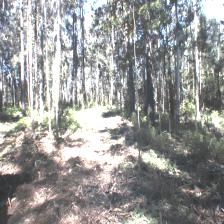trunktrack_idkeyframe: (29, 72, 37, 138), (146, 68, 155, 116), (21, 71, 27, 120)
